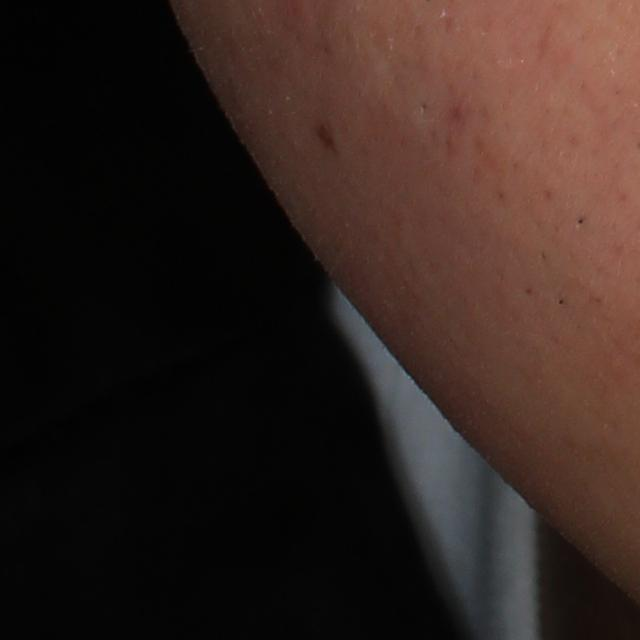nevus: (313, 117, 342, 154)
